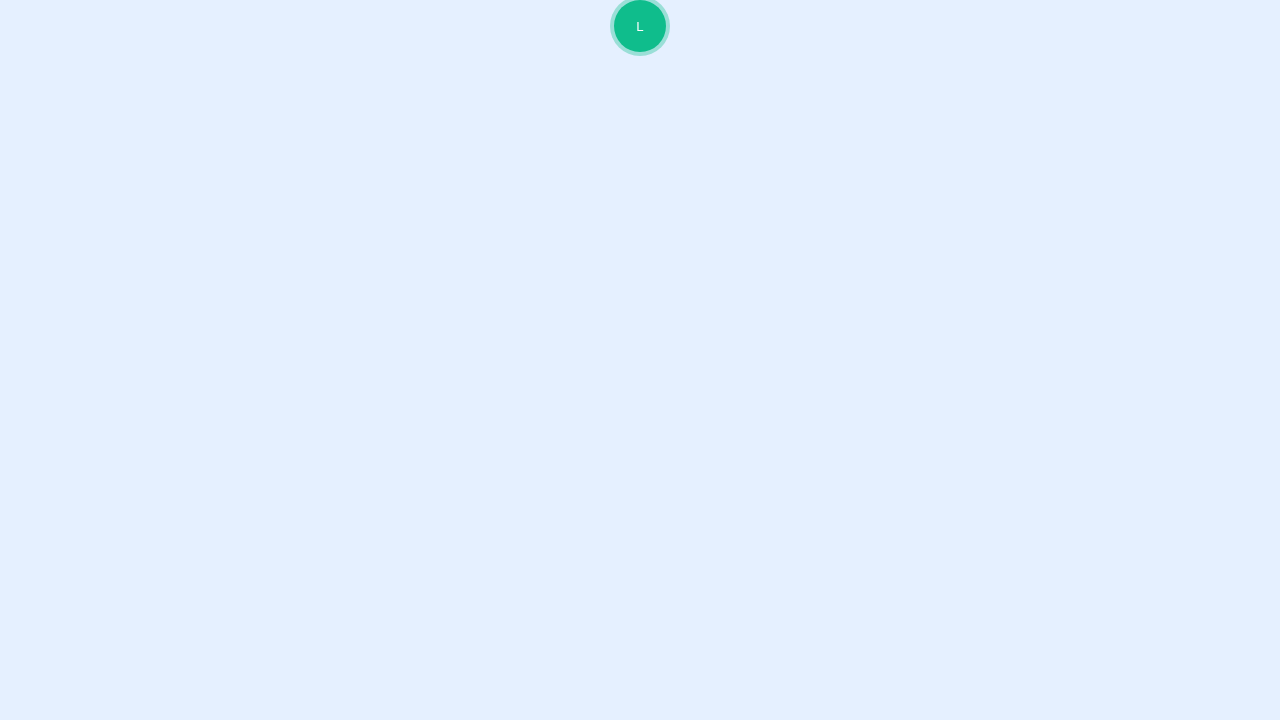
Test: AddMenu di tablet › ketuk di luar menutup menu
The width and height of the screenshot is (1280, 720).
Click the button with class "kb-addmenu__main": {"x": 640, "y": 26} [614,0,666,52]
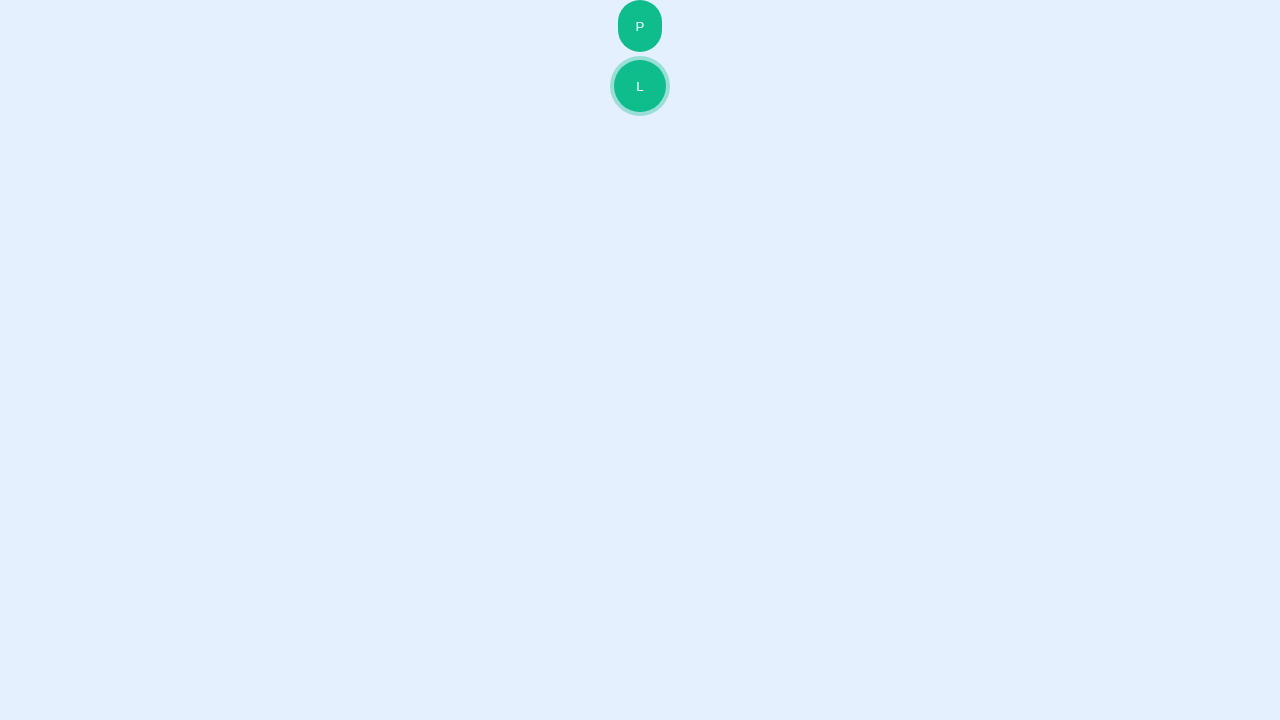
Check: the menu with class "kb-addmenu__list" is shown, box [618,0,662,52]
Press the mouse on the element showing "P L": {"x": 640, "y": 360} [0,0,1279,719]
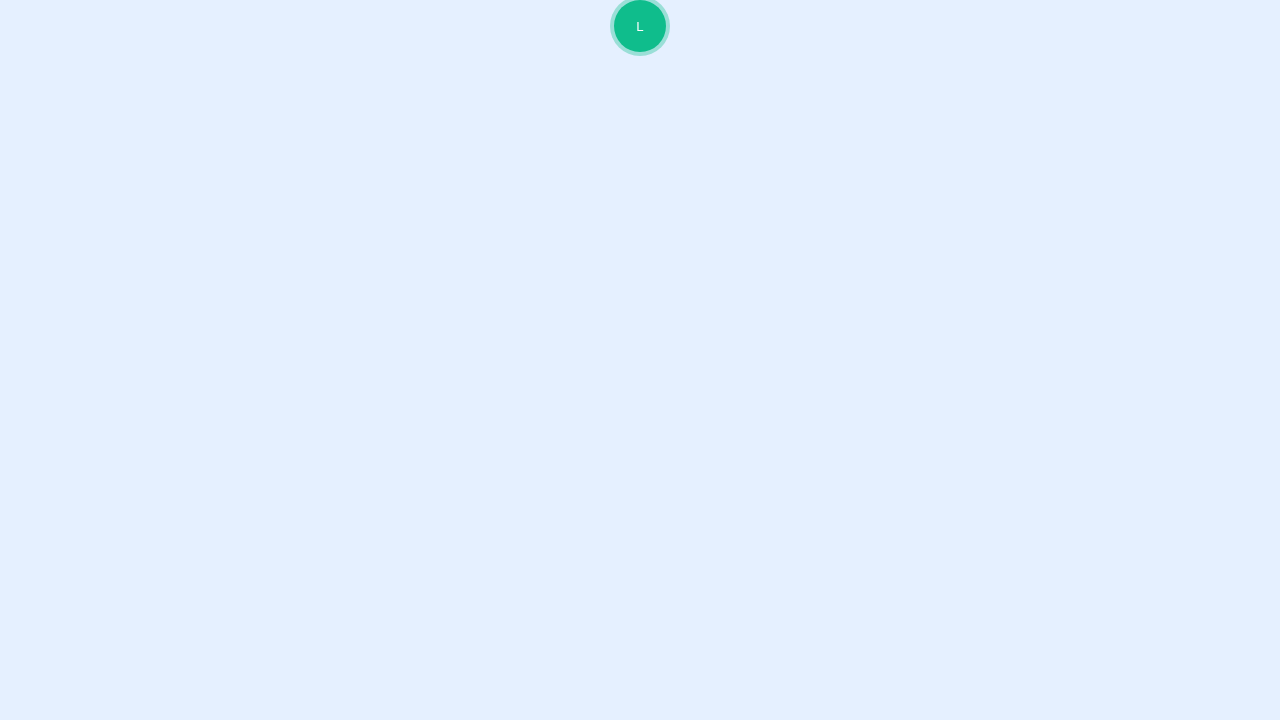
Check: the menu with class "kb-addmenu__list" is gone
